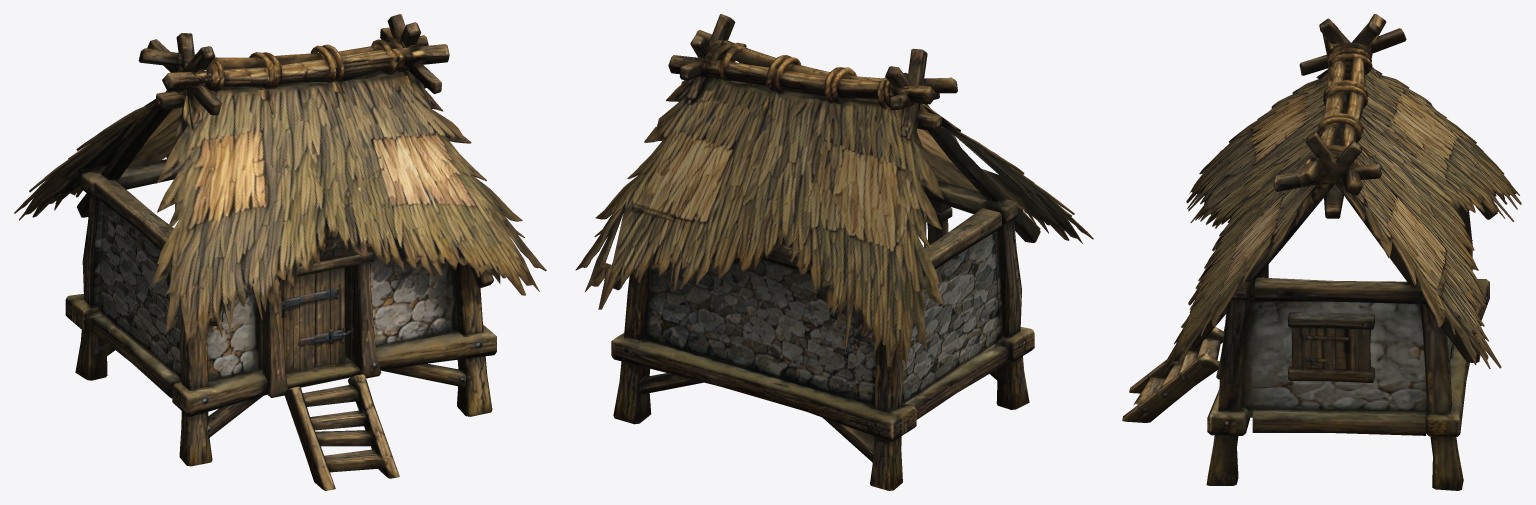
File: act1-a01-1-stilt-cottage.glb
The picture shows the model from 3 angles, left to right: view 1: azimuth 30°, elevation 25°; view 2: azimuth 150°, elevation 25°; view 3: azimuth 270°, elevation 25°; orthographic projection. The views are drawn at different scales.
Visible parts, largest first — view 1: act1-a01-1-stilt-cottage; view 2: act1-a01-1-stilt-cottage; view 3: act1-a01-1-stilt-cottage.
Part boxes in pixels (<box>): act1-a01-1-stilt-cottage: <box>14,14,546,490</box>; act1-a01-1-stilt-cottage: <box>575,14,1093,490</box>; act1-a01-1-stilt-cottage: <box>1122,14,1521,490</box>.
Bounding box in the file's own units: 5.42 × 5.2 × 5.23.
Materials: 1 (1 with a texture image).
